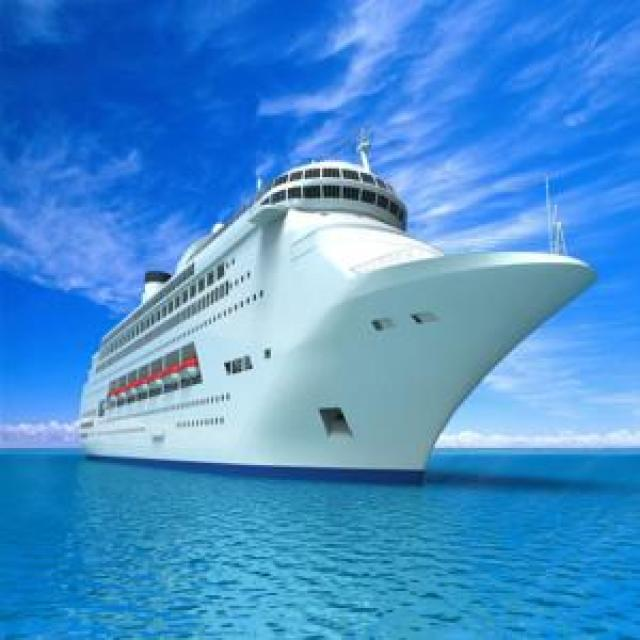passenger ship: (52, 158, 598, 504)
